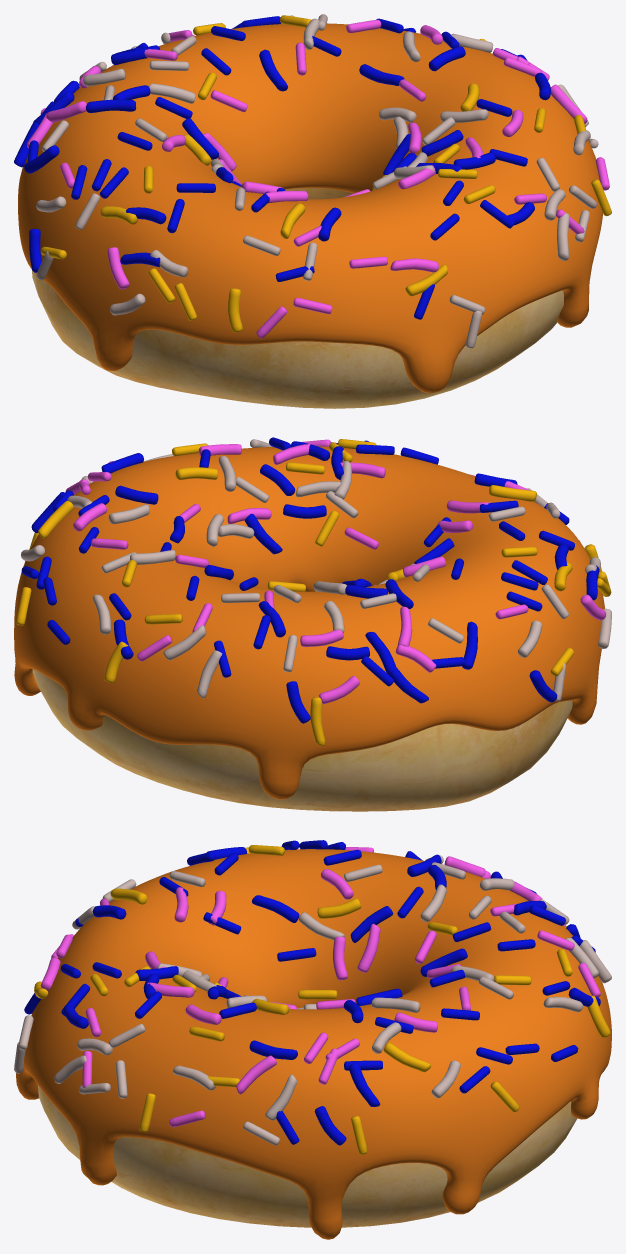
File: Donut.glb
The picture shows the model from 3 angles, top to bottom: view 1: azimuth 30°, elevation 25°; view 2: azimuth 150°, elevation 25°; view 3: azimuth 270°, elevation 25°; orthographic projection.
Visible parts, largest first — view 1: Icing.001, Icing, Donut; view 2: Icing.001, Icing, Donut; view 3: Icing.001, Icing, Donut.
Boxes of the visible parts, x1=… form: Icing.001: x1=18, y1=23, x2=602, y2=392; Icing: x1=14, y1=14, x2=611, y2=348; Donut: x1=31, y1=188, x2=563, y2=408; Icing.001: x1=14, y1=446, x2=604, y2=799; Icing: x1=16, y1=437, x2=611, y2=745; Donut: x1=32, y1=669, x2=572, y2=811; Icing.001: x1=16, y1=849, x2=611, y2=1239; Icing: x1=14, y1=840, x2=611, y2=1154; Donut: x1=38, y1=1085, x2=577, y2=1227.
Size of the model in its own units: 16.75 by 6.77 by 16.46.
3 materials, 1 textured.
